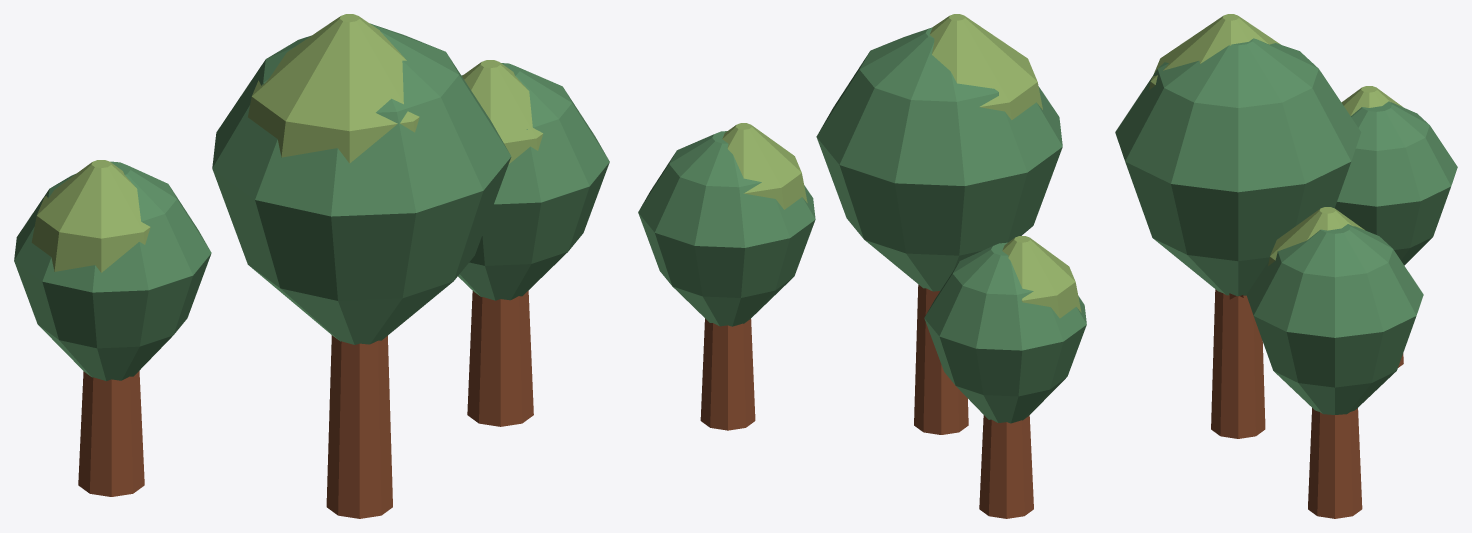
File: orchard.glb
3 renders of one model, left to right at view 1: azimuth 30°, elevation 25°; view 2: azimuth 150°, elevation 25°; view 3: azimuth 270°, elevation 25°, orthographic. The views are drawn at different scales.
Parts seen in each view (by area): view 1: LOD0; view 2: LOD0; view 3: LOD0.
Part boxes in pixels (x1=…): LOD0: x1=14, y1=14, x2=609, y2=518; LOD0: x1=638, y1=14, x2=1086, y2=518; LOD0: x1=1115, y1=14, x2=1457, y2=518.
Size of what is drawn, in the model's own units: 5.56 by 4.84 by 3.72.
